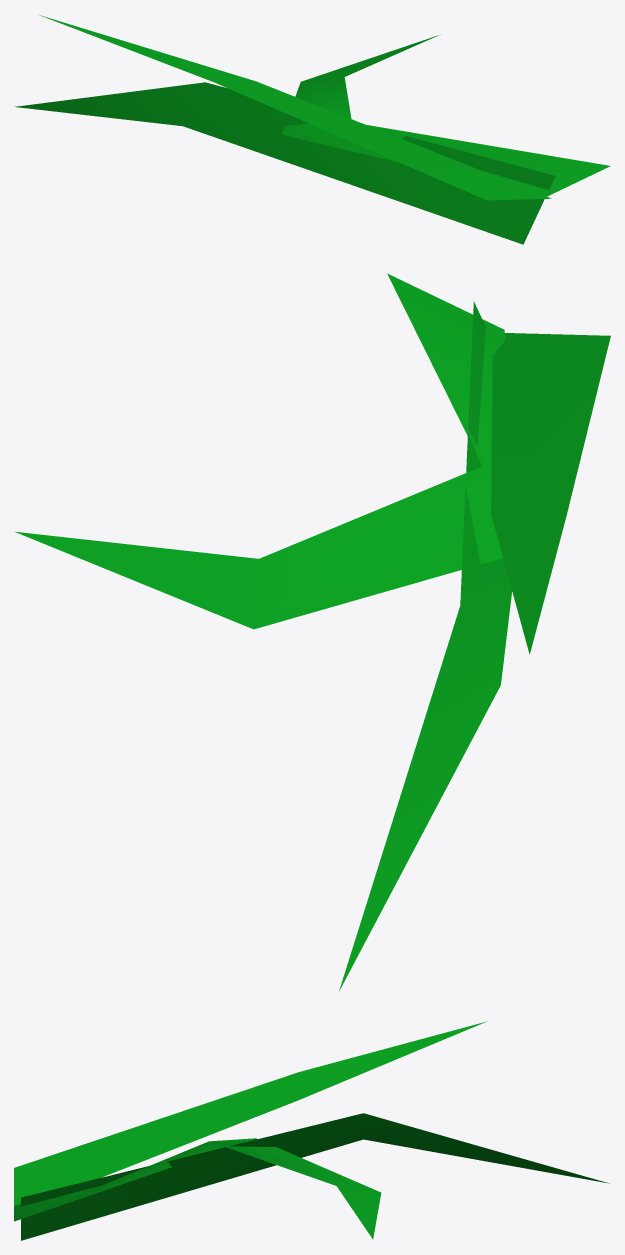
Rendered from iarba1.fbx.
3 renders of one model, top to bottom at view 1: azimuth 30°, elevation 25°; view 2: azimuth 150°, elevation 25°; view 3: azimuth 270°, elevation 25°, orthographic. The views are drawn at different scales.
Parts seen in each view (by area): view 1: Grass 3; view 2: Grass 3; view 3: Grass 3.
Part boxes in pixels (<box>): Grass 3: <box>15,15,610,244</box>; Grass 3: <box>14,273,610,991</box>; Grass 3: <box>14,1021,609,1240</box>.
Size of the model in its own units: 31.65 by 13.12 by 49.53.
